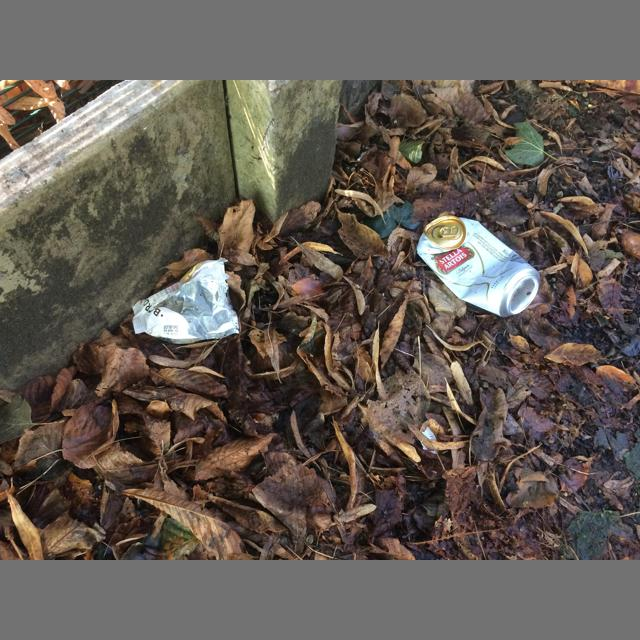litter: (417, 215, 540, 317), (132, 257, 239, 344), (439, 225, 460, 237)
